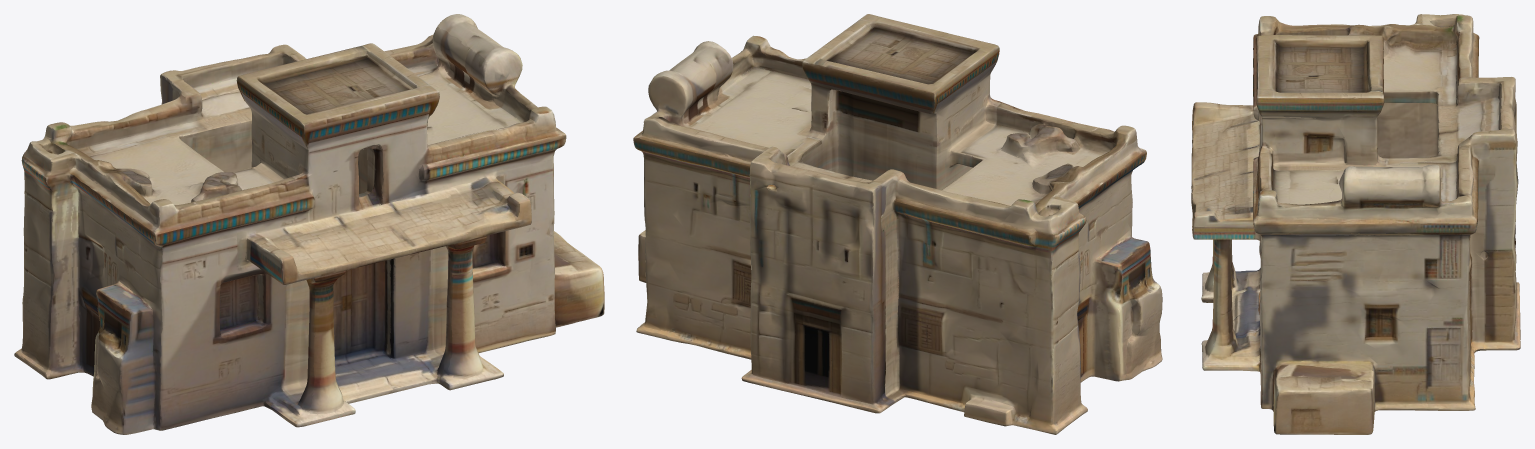
The model's file is house__egyptian-overseer_egyptian.glb.
3 renders of one model, left to right at view 1: azimuth 30°, elevation 25°; view 2: azimuth 150°, elevation 25°; view 3: azimuth 270°, elevation 25°, orthographic. The views are drawn at different scales.
Bounding box in the file's own units: 2 × 1.07 × 1.23.
Materials: 1 (1 with a texture image).
